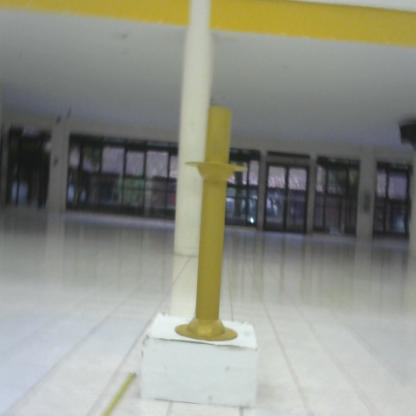pole: (170, 103, 252, 345)
